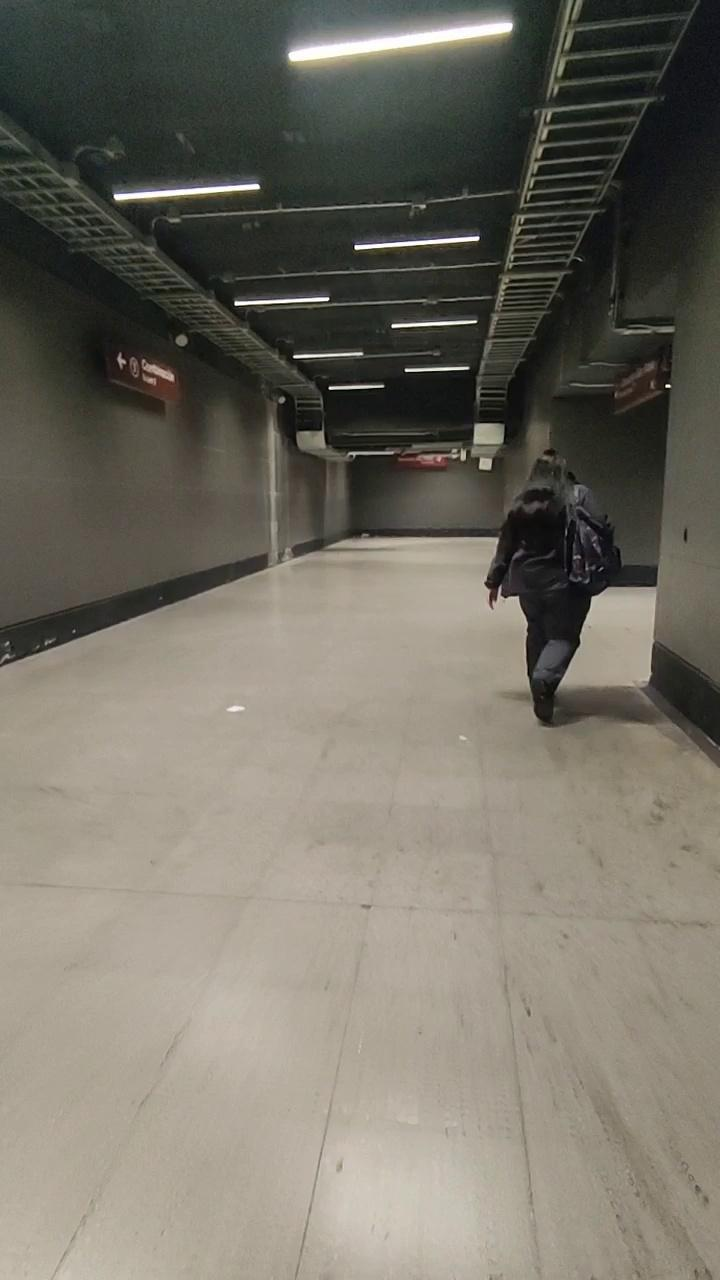left arrow: (109, 350, 130, 374)
